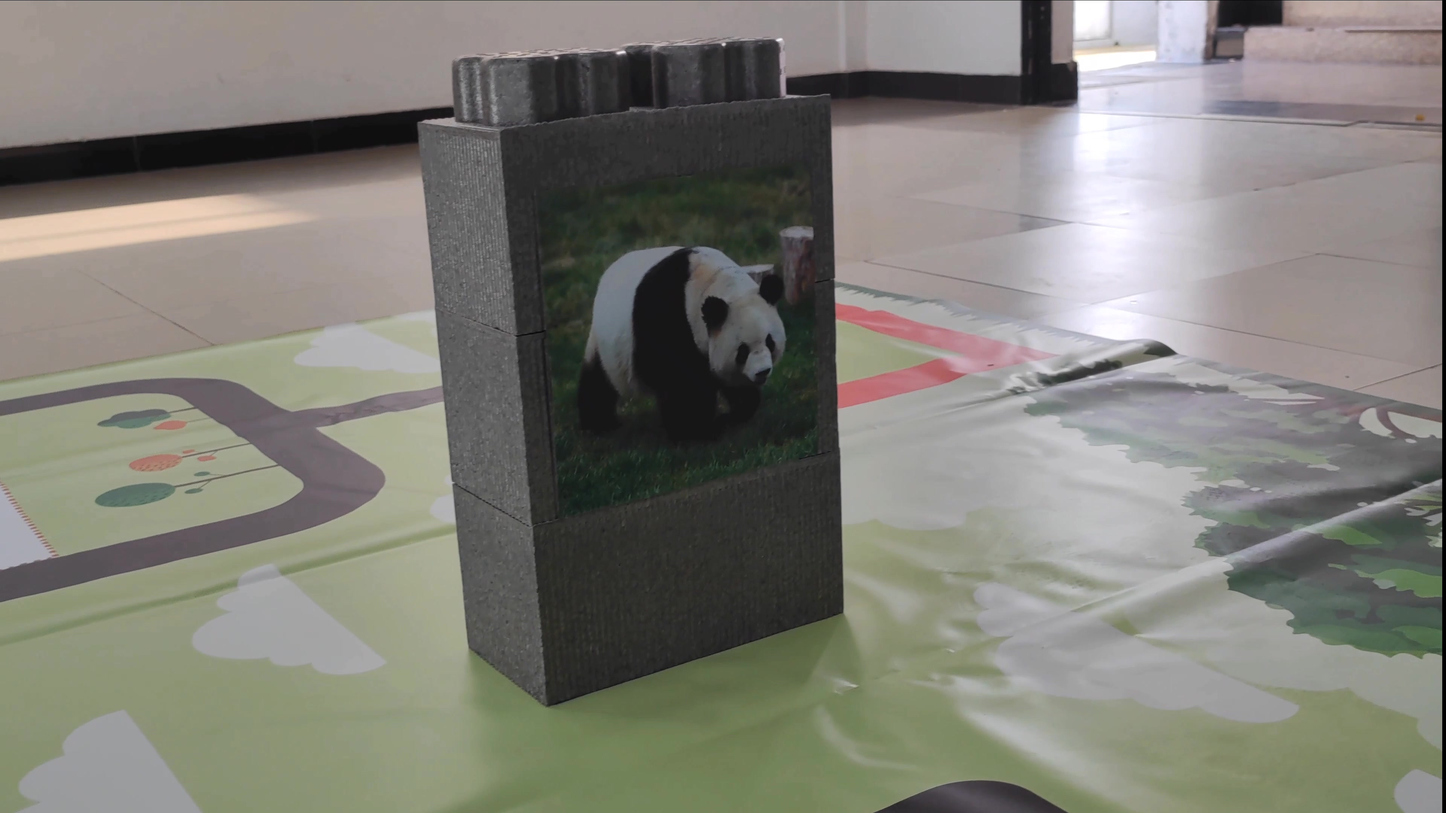panda: (553, 234, 800, 449)
